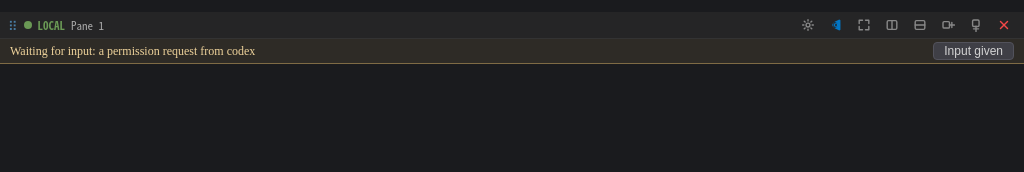
Test: TerminalPane codex permission wait › drops the failure of one wait when the next starts
Step 1. Click the button "Input given" → (974, 51), box [933, 42, 1014, 60]
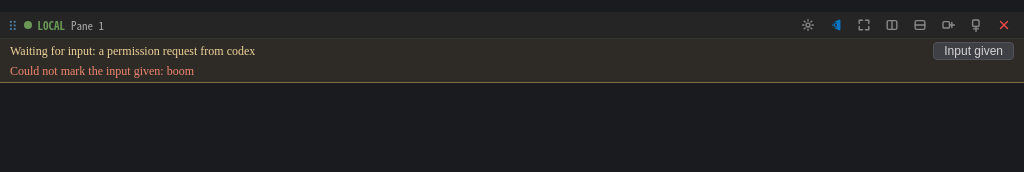
Now the message reads "Could not mark the input given: boom", box [10, 64, 194, 78]
